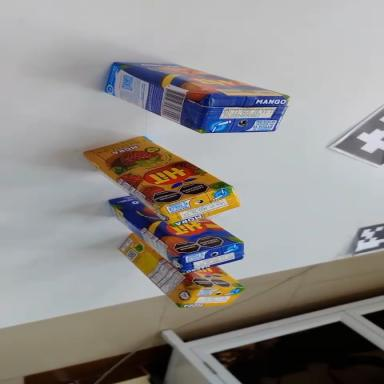HIT-MANGO: (99, 47, 290, 154), (99, 167, 250, 296)
HIT-MORA: (75, 115, 246, 249), (108, 231, 248, 326)
cara_F: (76, 114, 231, 234), (104, 167, 242, 280), (112, 47, 287, 116), (186, 265, 243, 289)
